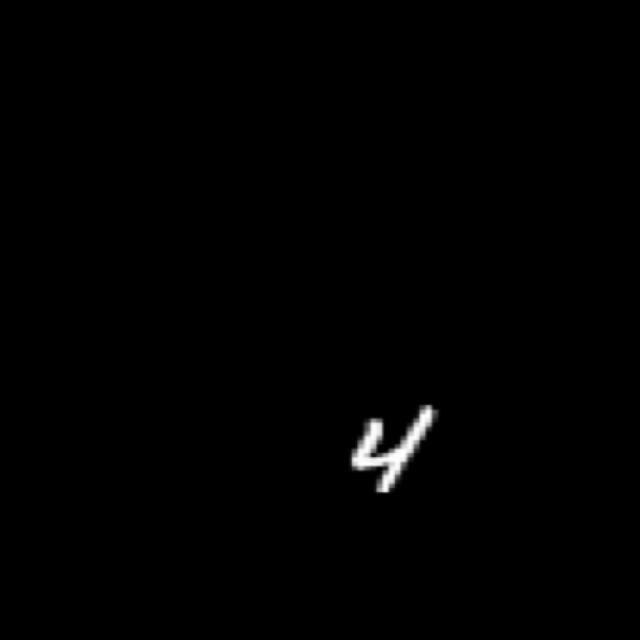four -4-: (325, 392, 455, 506)
